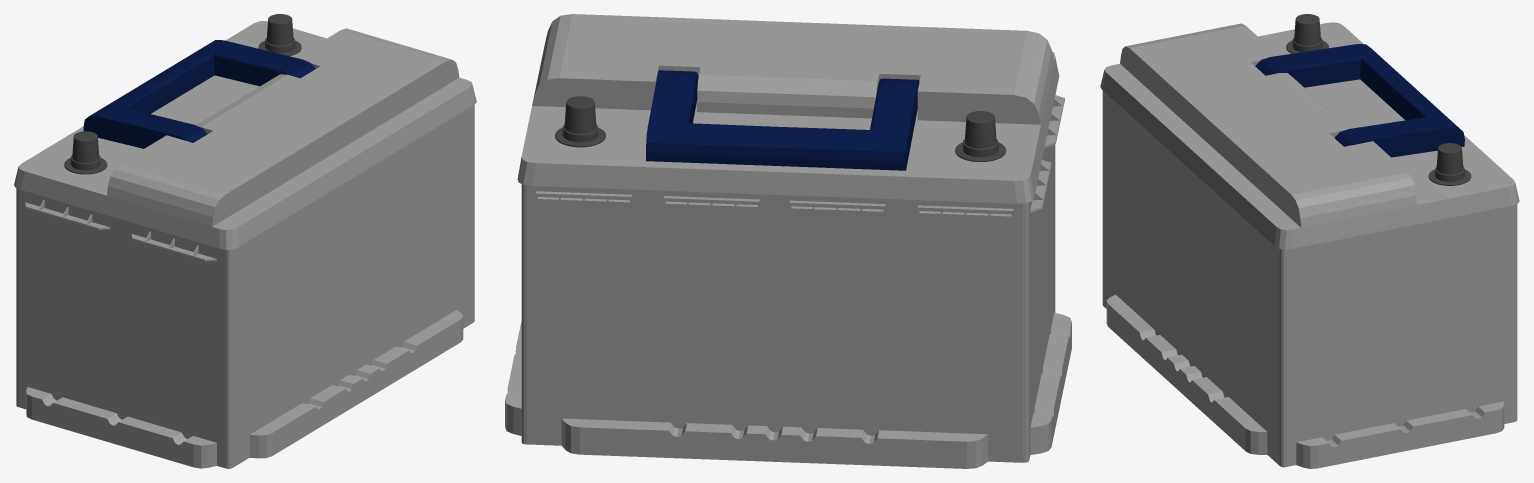
File: basic_battery.FBX
3 views of the same model, side by side, from view 1: azimuth 30°, elevation 25°; view 2: azimuth 150°, elevation 25°; view 3: azimuth 270°, elevation 25° (orthographic). The views are drawn at different scales.
Parts seen in each view (by area): view 1: Plane020, Cylinder356, Cylinder355; view 2: Plane020, Cylinder355, Cylinder356; view 3: Plane020, Cylinder355, Cylinder356.
Boxes of the visible parts, box(x1,y1,x2,y2) form: Plane020: box(14, 21, 476, 468); Cylinder356: box(64, 131, 107, 174); Cylinder355: box(258, 14, 301, 56); Plane020: box(505, 14, 1071, 468); Cylinder355: box(555, 96, 605, 147); Cylinder356: box(955, 111, 1006, 161); Plane020: box(1100, 22, 1519, 468); Cylinder355: box(1428, 143, 1471, 185); Cylinder356: box(1286, 14, 1328, 53).
Bounding box in the file's own units: 206 × 120 × 172.
